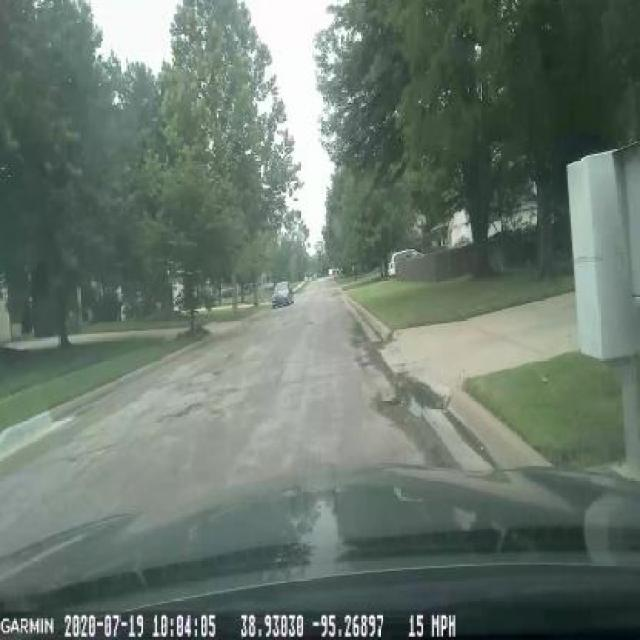Pothole: (364, 369, 458, 426)
